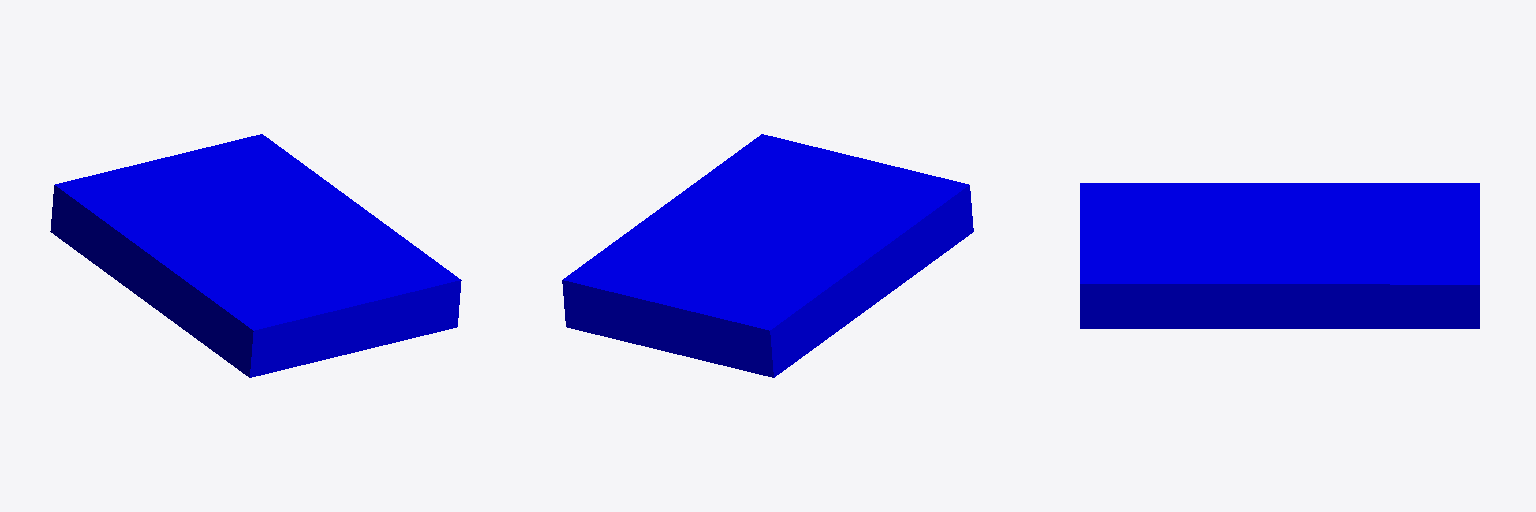
The model's file is planes_1-dynamic - BLK2GO-3630355-Scan 080 20.obj.
The picture shows the model from 3 angles: view 1: azimuth 30°, elevation 25°; view 2: azimuth 150°, elevation 25°; view 3: azimuth 270°, elevation 25°; orthographic projection.
Visible parts, largest first — view 1: 1-dynamic_-_BLK2GO-[number redacted]-Scan_080_20_0; view 2: 1-dynamic_-_BLK2GO-[number redacted]-Scan_080_20_0; view 3: 1-dynamic_-_BLK2GO-[number redacted]-Scan_080_20_0.
Boxes of the visible parts, box(x1,y1,x2,y2) form: 1-dynamic_-_BLK2GO-[number redacted]-Scan_080_20_0: box(50, 134, 461, 377); 1-dynamic_-_BLK2GO-[number redacted]-Scan_080_20_0: box(562, 134, 973, 377); 1-dynamic_-_BLK2GO-[number redacted]-Scan_080_20_0: box(1080, 183, 1479, 328).
Bounding box in the file's own units: 1.03 × 0.2154 × 1.68.